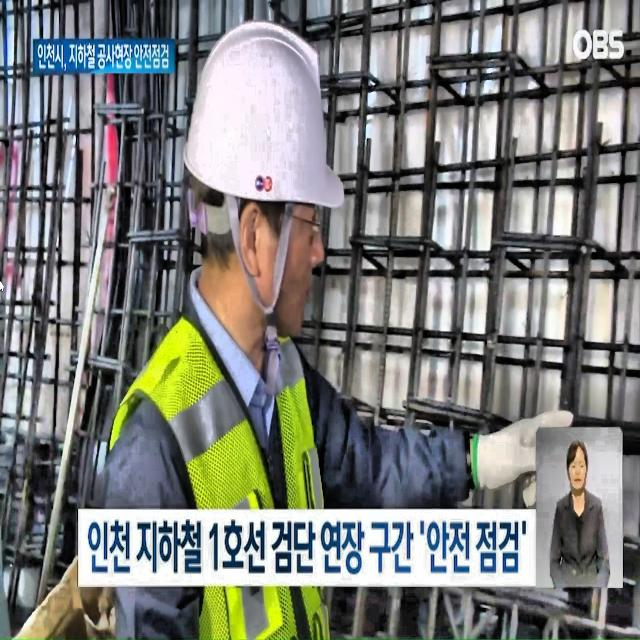safety_helmet: (140, 0, 386, 243)
safety_jacket: (79, 311, 338, 640)
